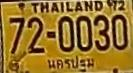0: (111, 14, 127, 49), (75, 15, 91, 50), (58, 15, 73, 51)
2: (27, 16, 45, 53)
3: (93, 14, 109, 50)
7: (9, 17, 24, 53)
NPT: (45, 55, 95, 72)
